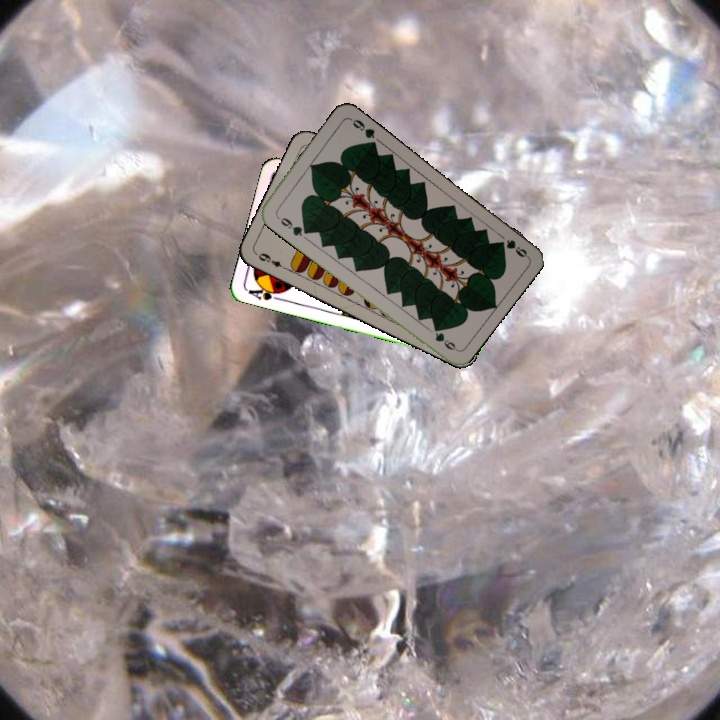E9: (254, 249, 291, 273)
G9: (272, 211, 309, 239), (494, 235, 530, 260)
SA: (244, 281, 286, 303)
